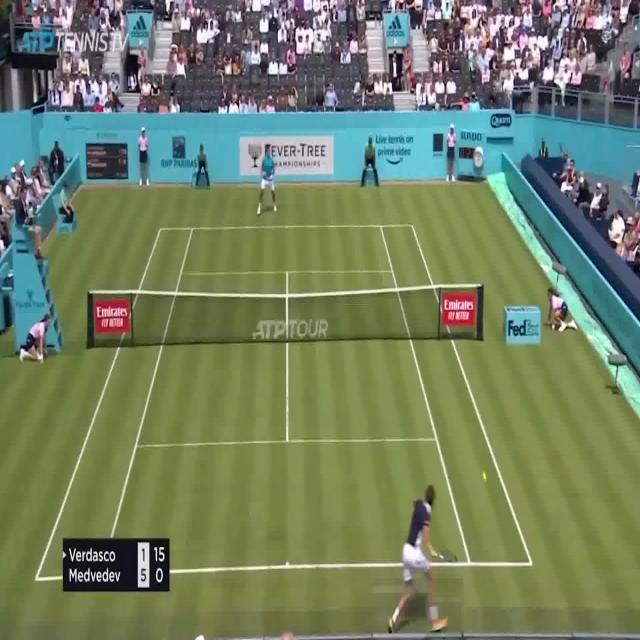bottom-dead-zone: (101, 439, 470, 574)
court: (34, 223, 534, 582)
left-doubles-alley: (36, 228, 192, 579)
left-service-box: (136, 271, 288, 445)
net: (85, 280, 484, 353)
right-doubles-alley: (379, 223, 534, 566)
right-service-box: (286, 270, 438, 440)
top-dead-zone: (180, 226, 393, 274)
